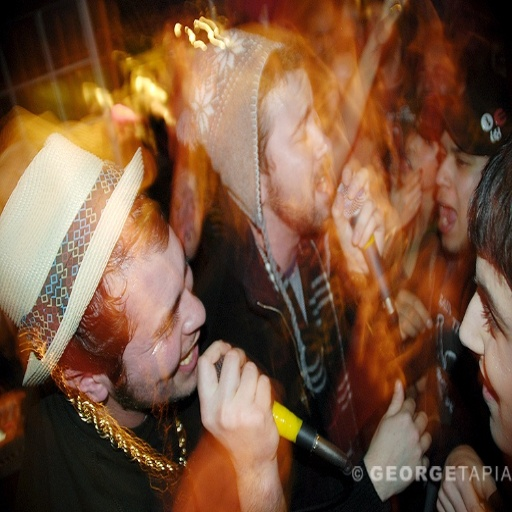hand: (178, 337, 300, 510), (362, 376, 433, 499), (329, 154, 382, 275), (434, 445, 496, 510), (385, 160, 423, 226), (393, 285, 434, 341), (372, 0, 407, 47)
